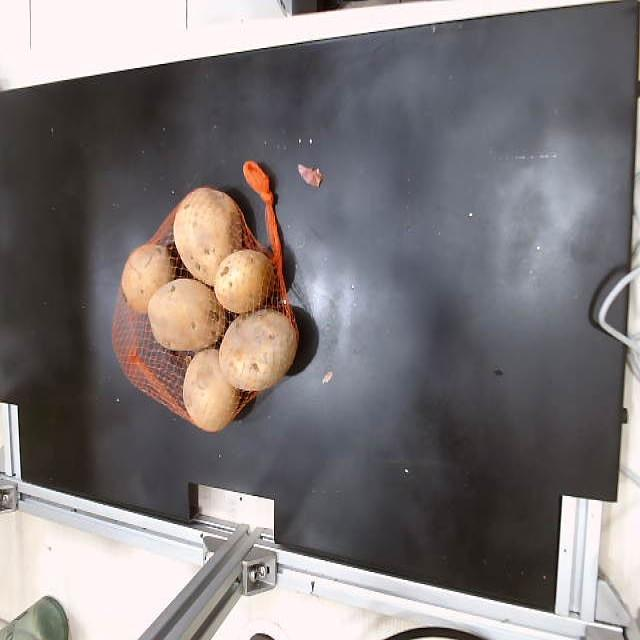potato: (174, 187, 242, 286), (219, 310, 298, 391), (149, 278, 225, 351), (184, 350, 240, 431), (121, 245, 175, 312), (215, 252, 274, 313)
